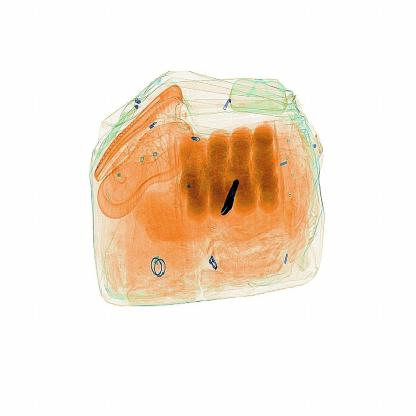knife: (222, 169, 244, 218)
